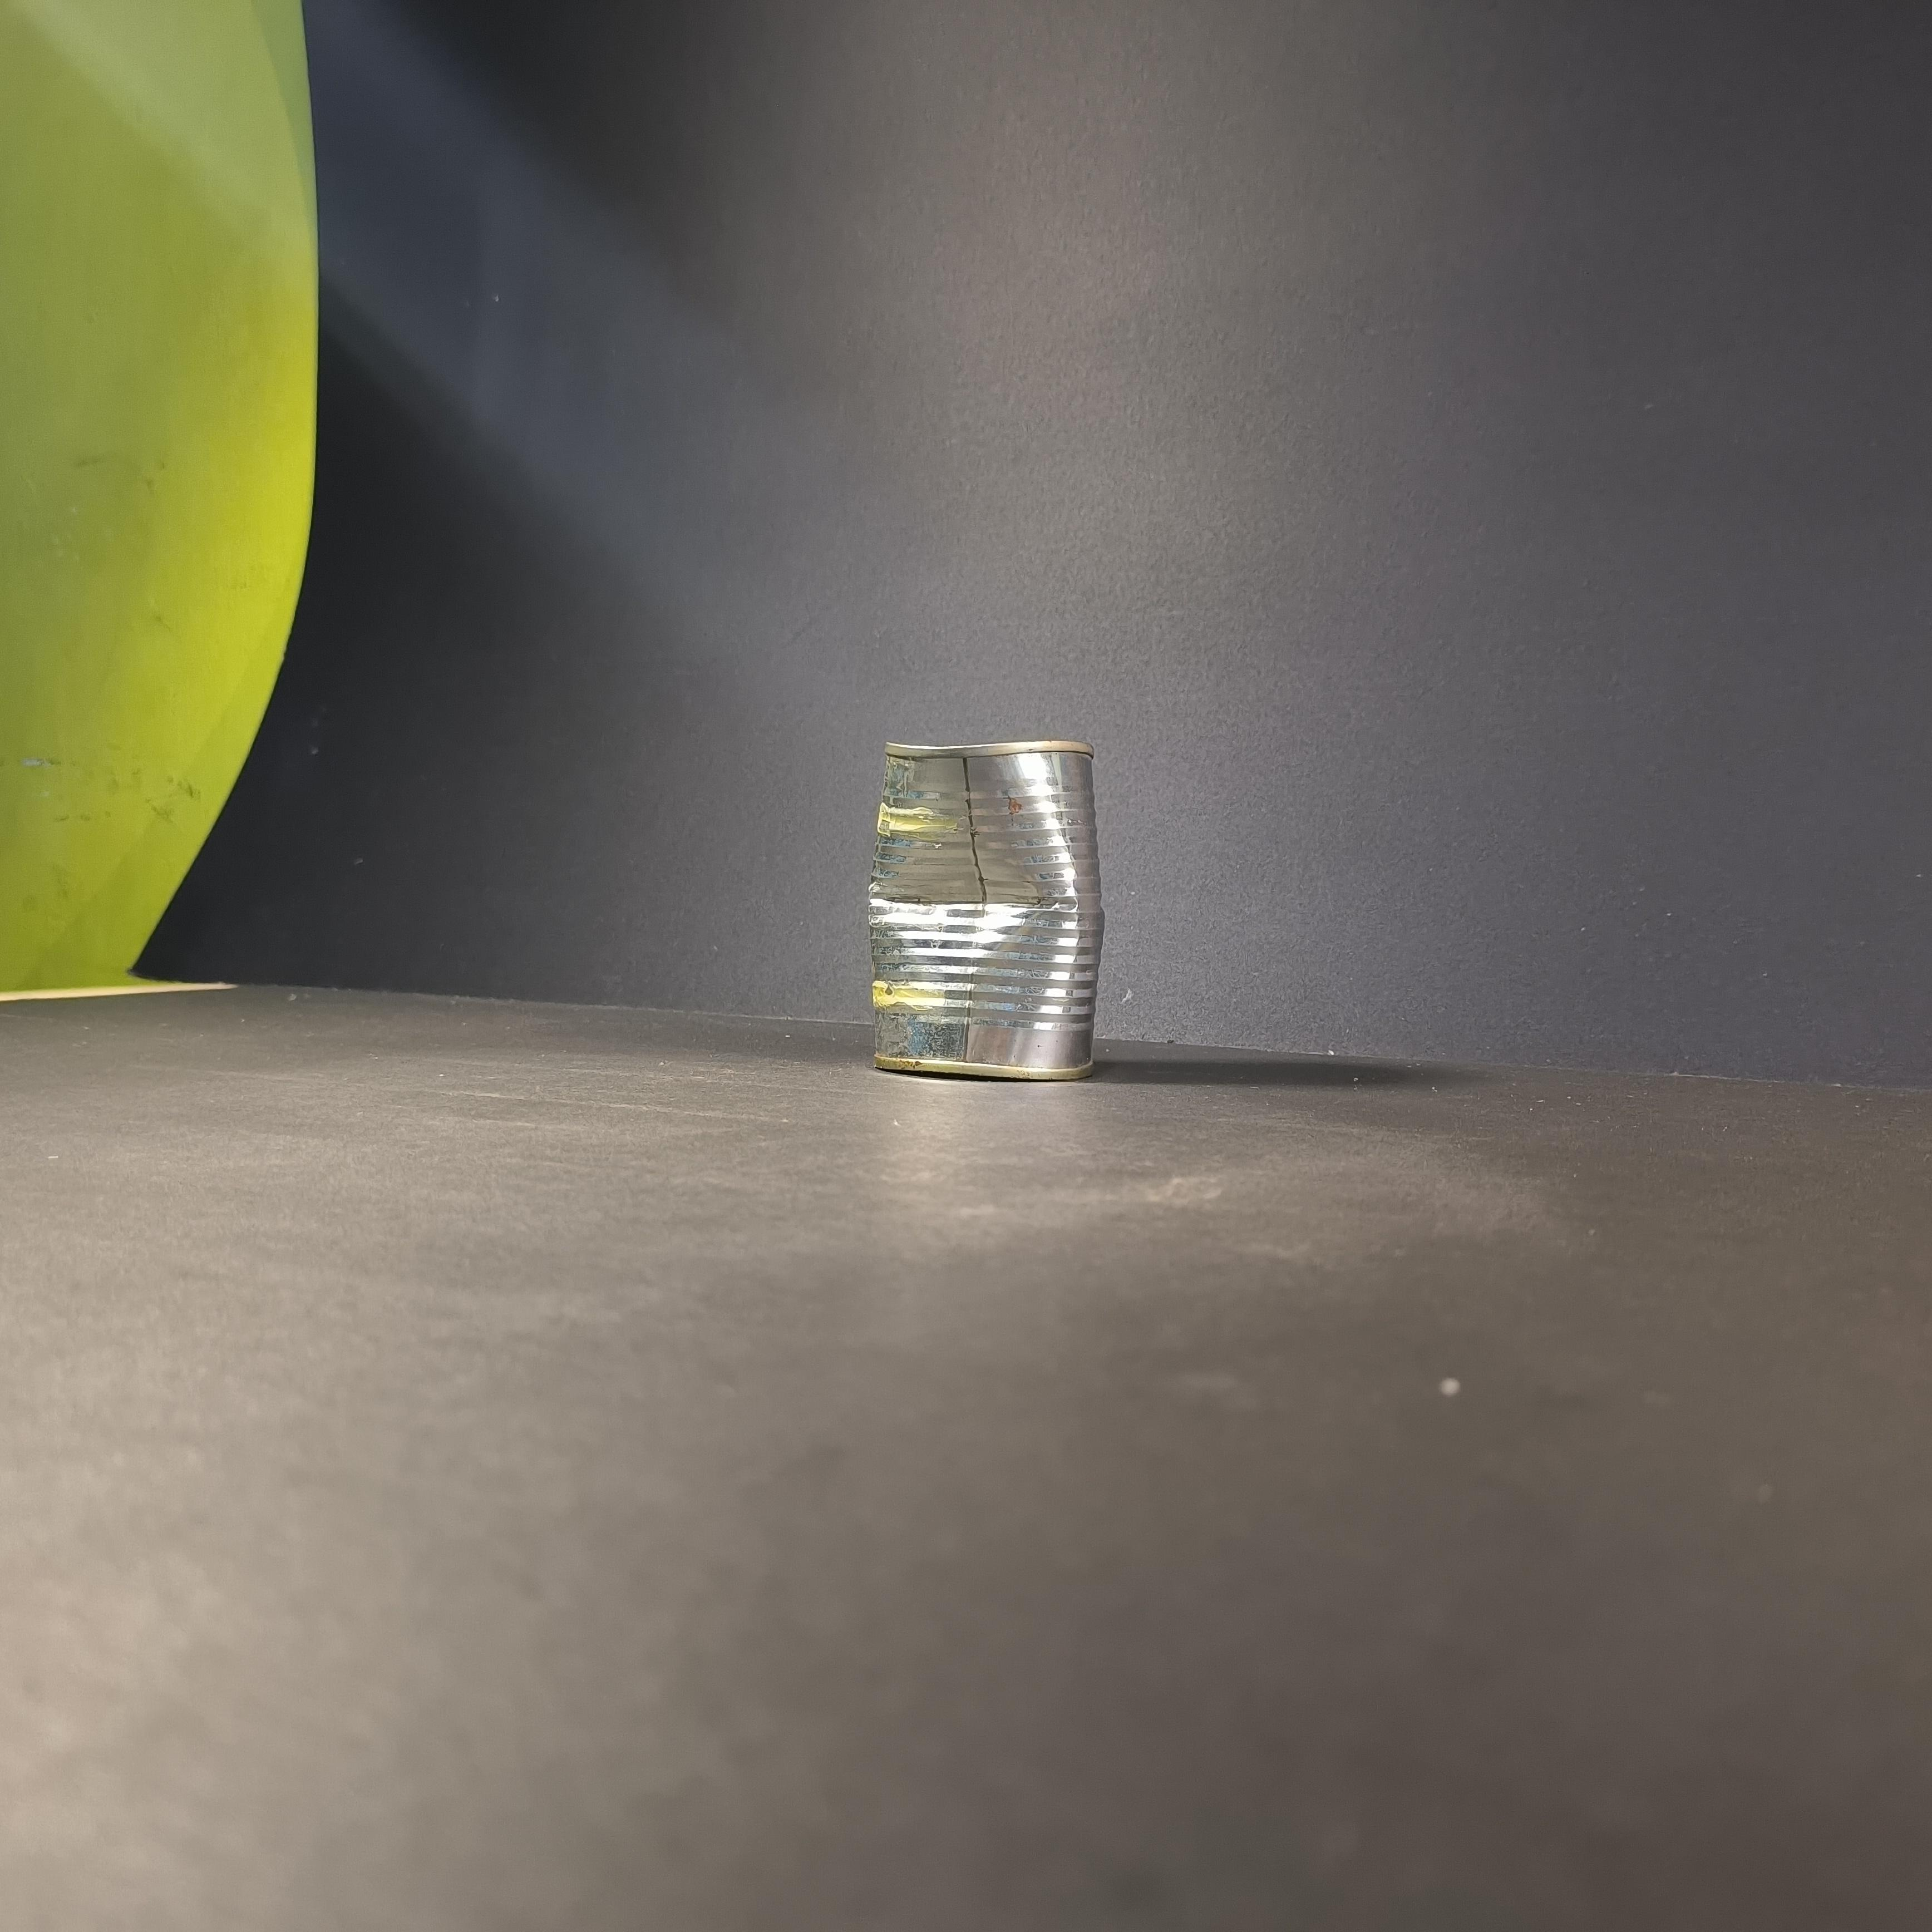Dented: (849, 713, 1108, 1109)
